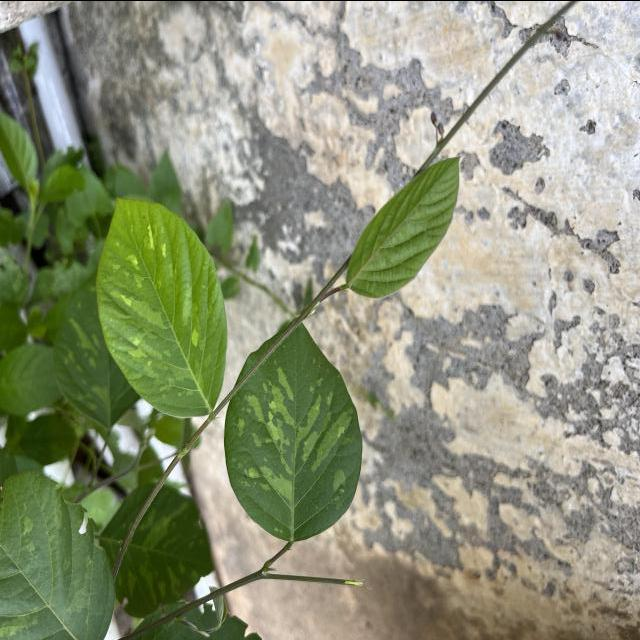Desmodium gangeticum: (222, 314, 366, 546), (93, 192, 231, 420)
